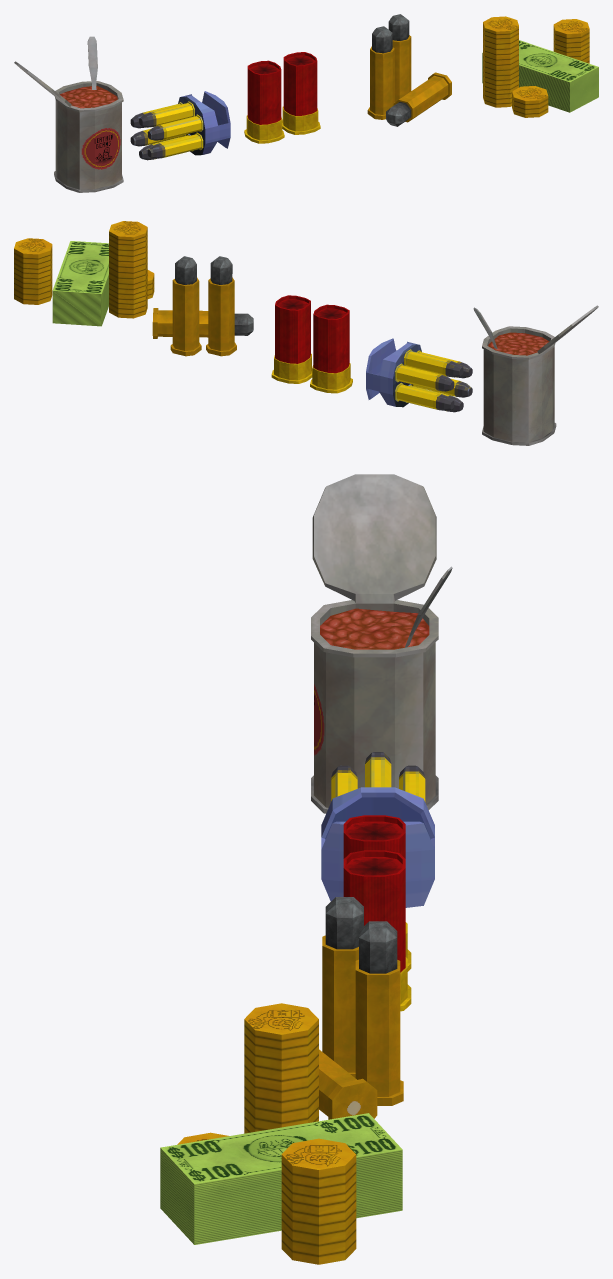
The model's file is pickUps.fbx.
The picture shows the model from 3 angles, top to bottom: view 1: azimuth 30°, elevation 25°; view 2: azimuth 150°, elevation 25°; view 3: azimuth 270°, elevation 25°; orthographic projection. The views are drawn at different scales.
Parts seen in each view (by area): view 1: treasure, healthPickup, shotgunAmmo, rifleAmmo, revolverAmmo; view 2: treasure, healthPickup, shotgunAmmo, rifleAmmo, revolverAmmo; view 3: treasure, healthPickup, rifleAmmo, revolverAmmo, shotgunAmmo.
Boxes of the visible parts, x1=… form: treasure: x1=482, y1=16, x2=598, y2=117; healthPickup: x1=14, y1=36, x2=123, y2=192; shotgunAmmo: x1=244, y1=52, x2=320, y2=143; rifleAmmo: x1=367, y1=14, x2=451, y2=126; revolverAmmo: x1=130, y1=91, x2=230, y2=160; treasure: x1=14, y1=221, x2=154, y2=326; healthPickup: x1=473, y1=305, x2=598, y2=445; shotgunAmmo: x1=271, y1=295, x2=352, y2=393; rifleAmmo: x1=152, y1=256, x2=253, y2=356; revolverAmmo: x1=366, y1=338, x2=472, y2=412; treasure: x1=160, y1=1003, x2=402, y2=1264; healthPickup: x1=311, y1=474, x2=452, y2=813; rifleAmmo: x1=319, y1=897, x2=403, y2=1119; revolverAmmo: x1=321, y1=752, x2=434, y2=907; shotgunAmmo: x1=343, y1=815, x2=411, y2=1011.
Size of the model in its own units: 341 by 75.17 by 78.33.
5 materials, 5 textured.
